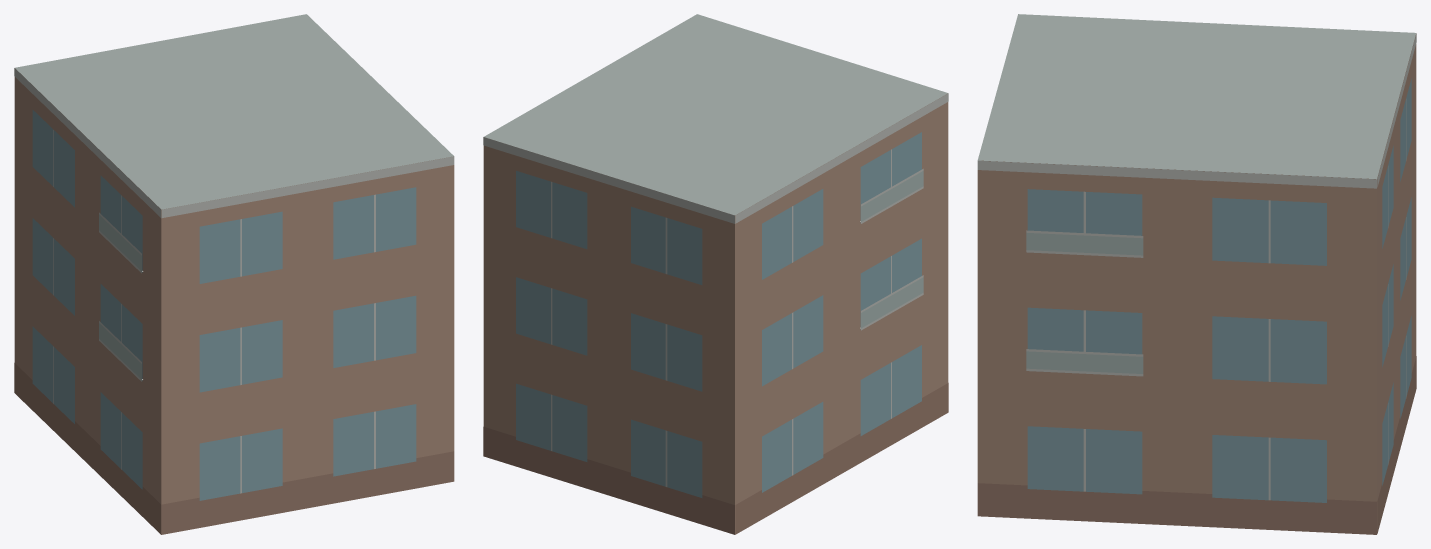
The model's file is survey-upis-32965998.glb.
3 views of the same model, side by side, from view 1: azimuth 30°, elevation 25°; view 2: azimuth 150°, elevation 25°; view 3: azimuth 270°, elevation 25° (orthographic). The views are drawn at different scales.
Parts seen in each view (by area): view 1: survey-upis-32965998.tmp; view 2: survey-upis-32965998.tmp; view 3: survey-upis-32965998.tmp.
Boxes of the visible parts, x1,y1,x2,y2 form: survey-upis-32965998.tmp: (14,14,454,534); survey-upis-32965998.tmp: (483,14,948,534); survey-upis-32965998.tmp: (977,14,1416,534).
Bounding box in the file's own units: 9.12 × 9.15 × 10.24.
